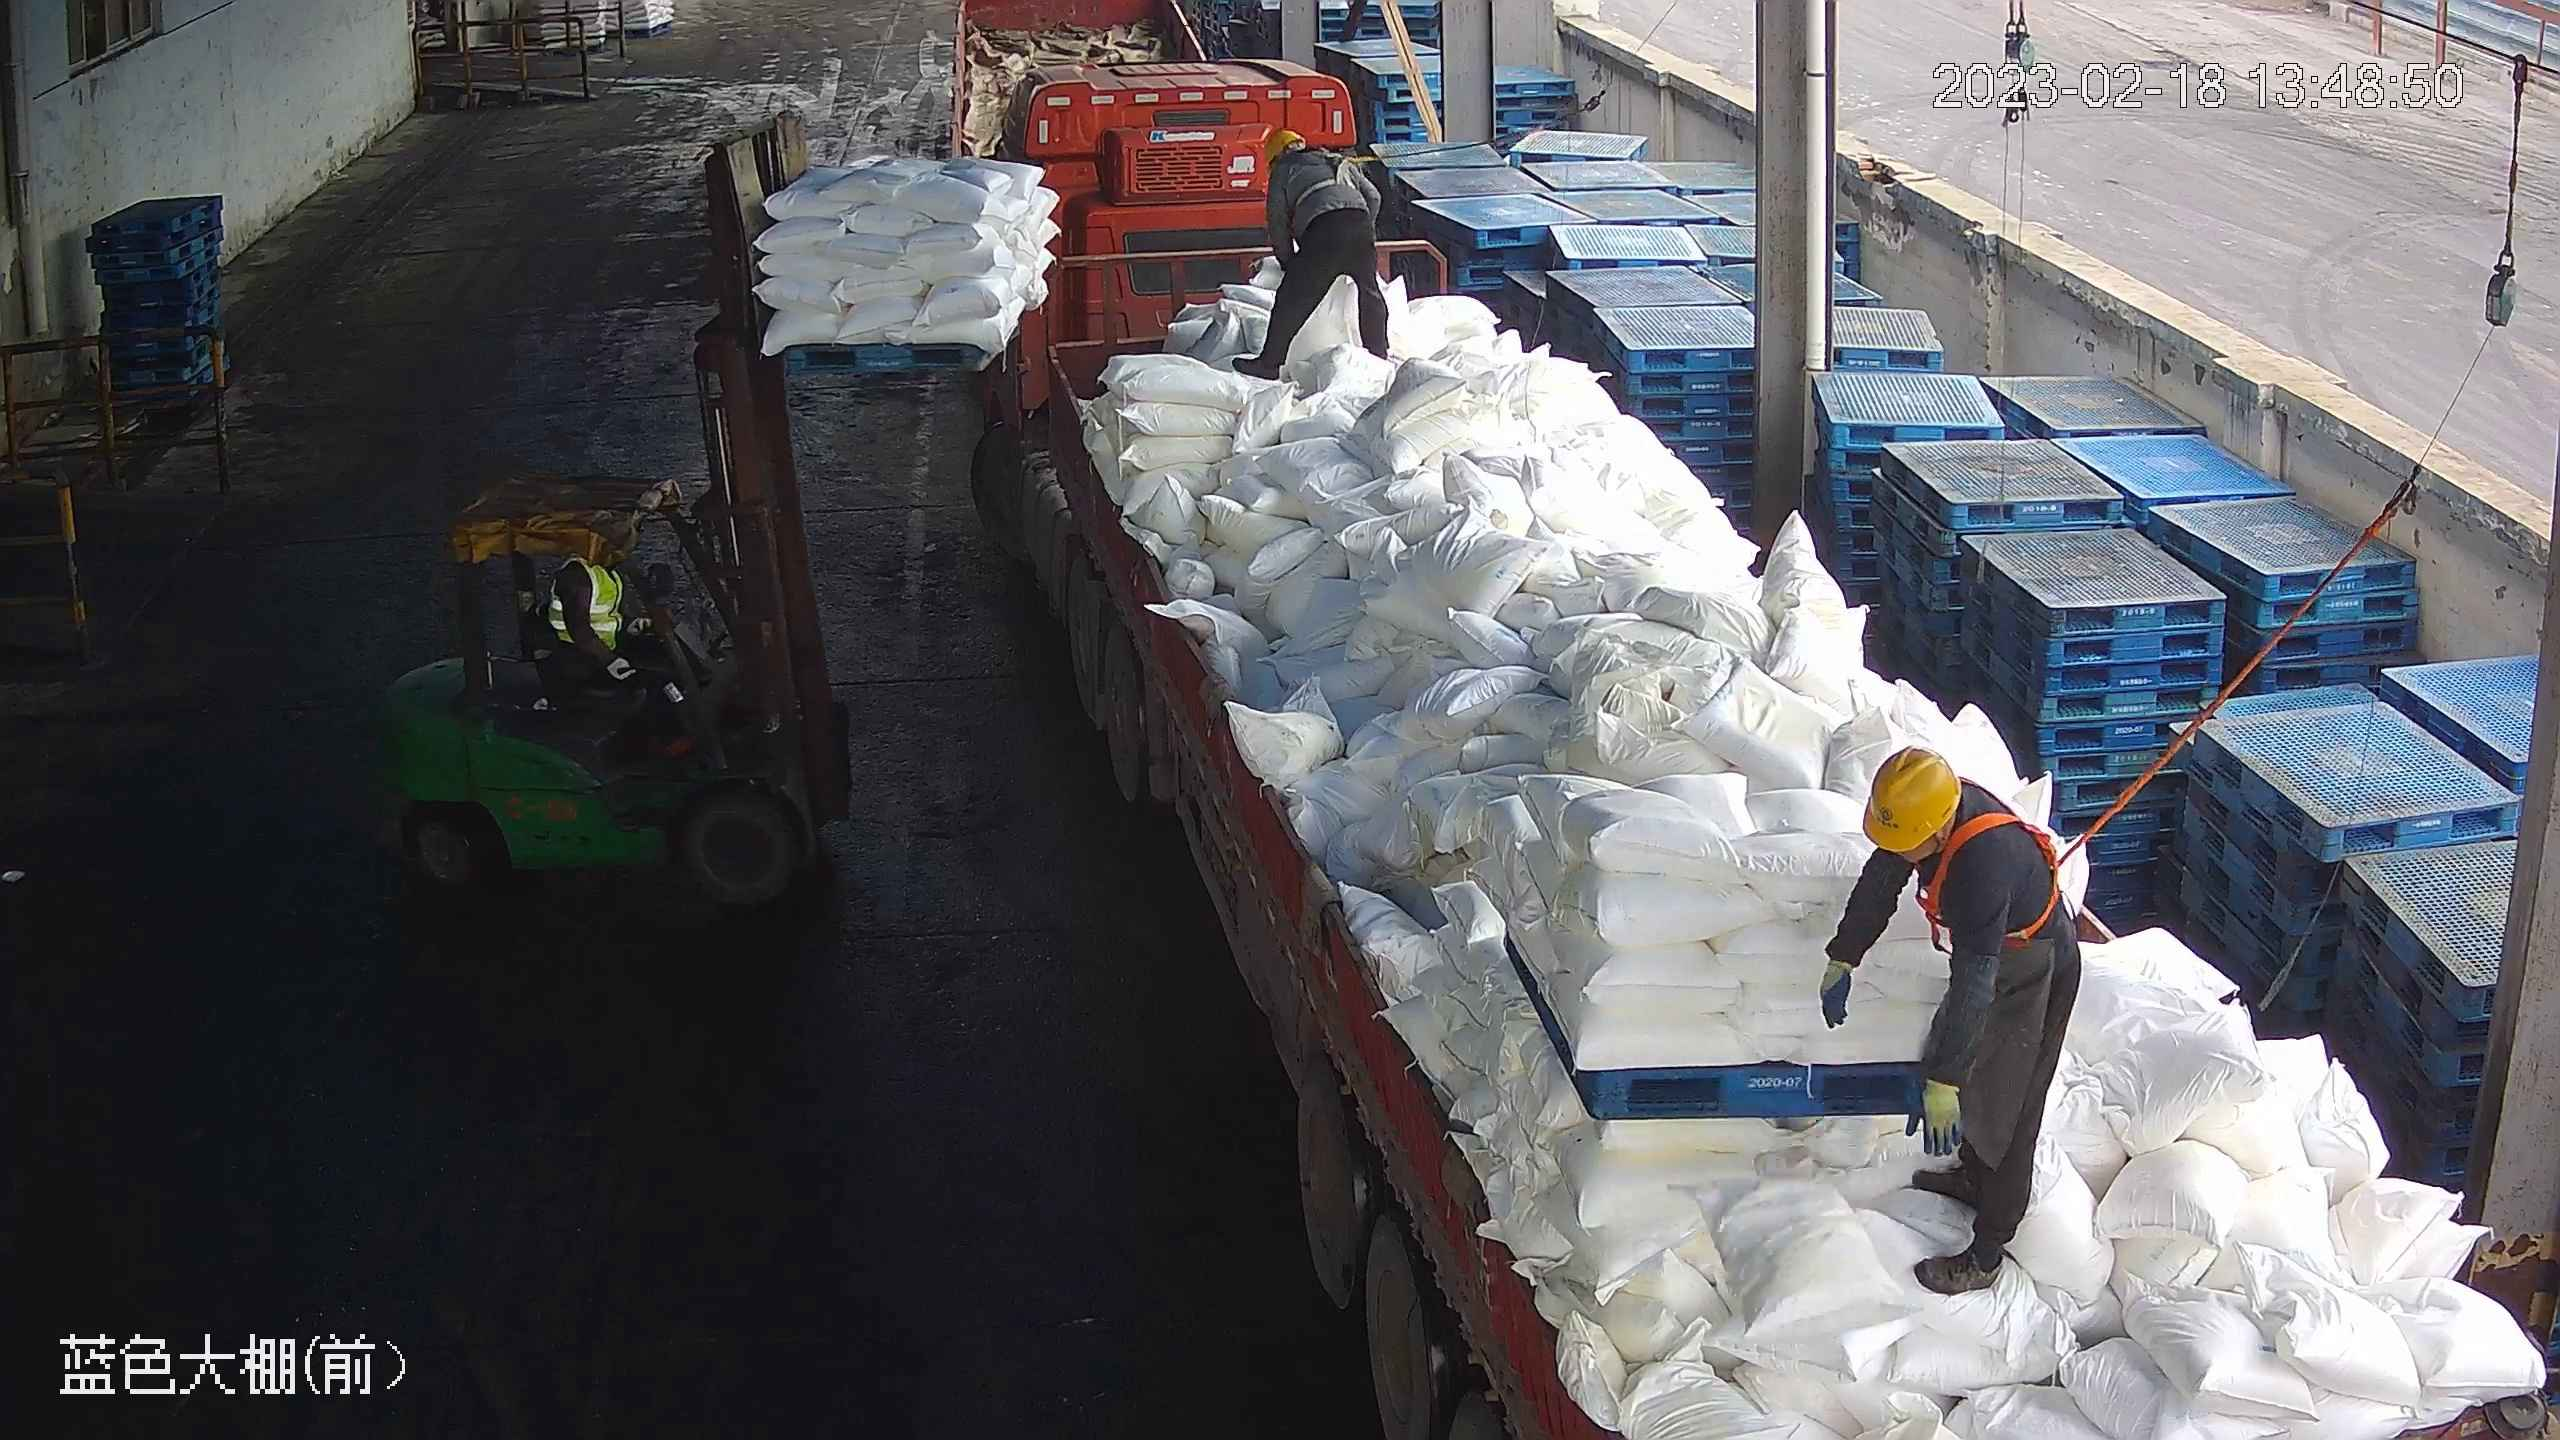belt: (1922, 777, 2086, 947), (1296, 140, 1383, 205)
head: (1845, 744, 2045, 940), (1255, 126, 1358, 203)
helmet: (1861, 744, 1959, 853), (1260, 125, 1303, 162)
people: (1819, 742, 2086, 1295), (1247, 124, 1396, 382), (538, 538, 699, 749)
truck: (944, 52, 2549, 1440)
